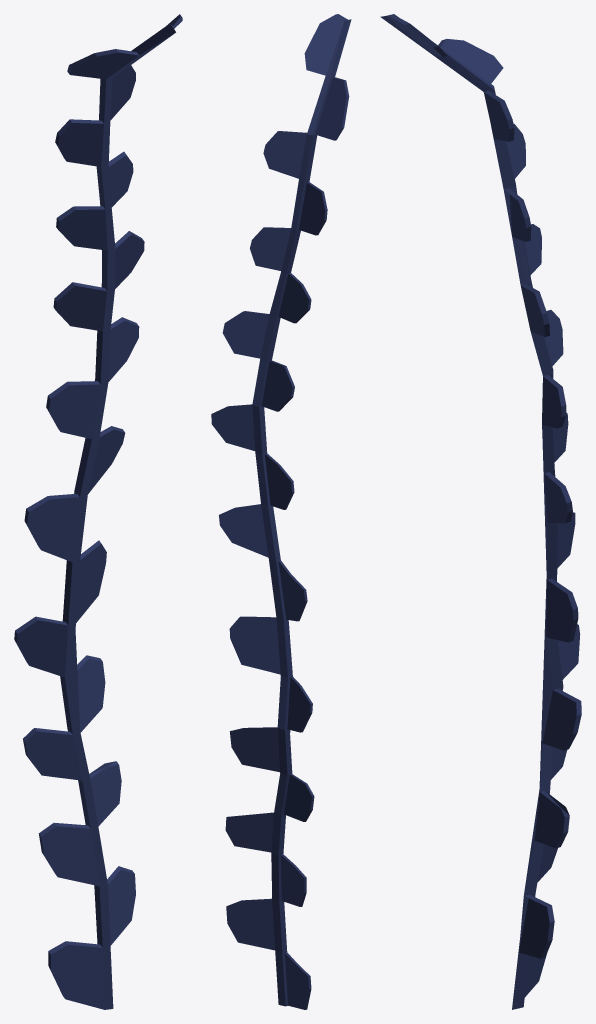
The model's file is F Plant 2 Blue.fbx.
The picture shows the model from 3 angles, left to right: view 1: azimuth 30°, elevation 25°; view 2: azimuth 150°, elevation 25°; view 3: azimuth 270°, elevation 25°; orthographic projection. The views are drawn at different scales.
Parts seen in each view (by area): view 1: Plane; view 2: Plane; view 3: Plane.
Boxes of the visible parts, x1,y1,x2,y2 form: Plane: [14, 14, 182, 1009]; Plane: [211, 14, 351, 1009]; Plane: [380, 14, 581, 1009].
Bounding box in the file's own units: 12.33 × 106 × 19.42.
